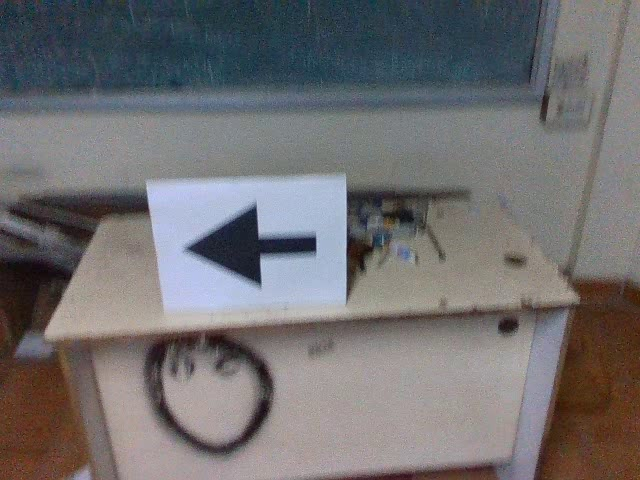Left: (172, 196, 324, 292)
